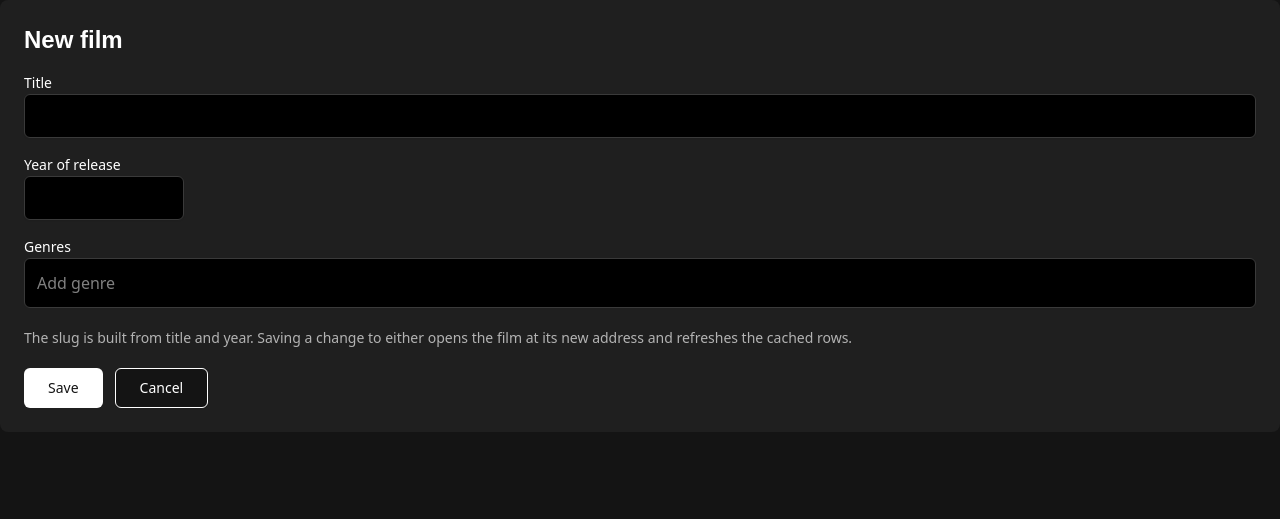
it: MovieForm › shows a clear message on a 403
The width and height of the screenshot is (1280, 519).
Type "New film" into the field labelled "Title". click: (640, 116)
box: top-left (24, 94), bottom-right (1256, 138)
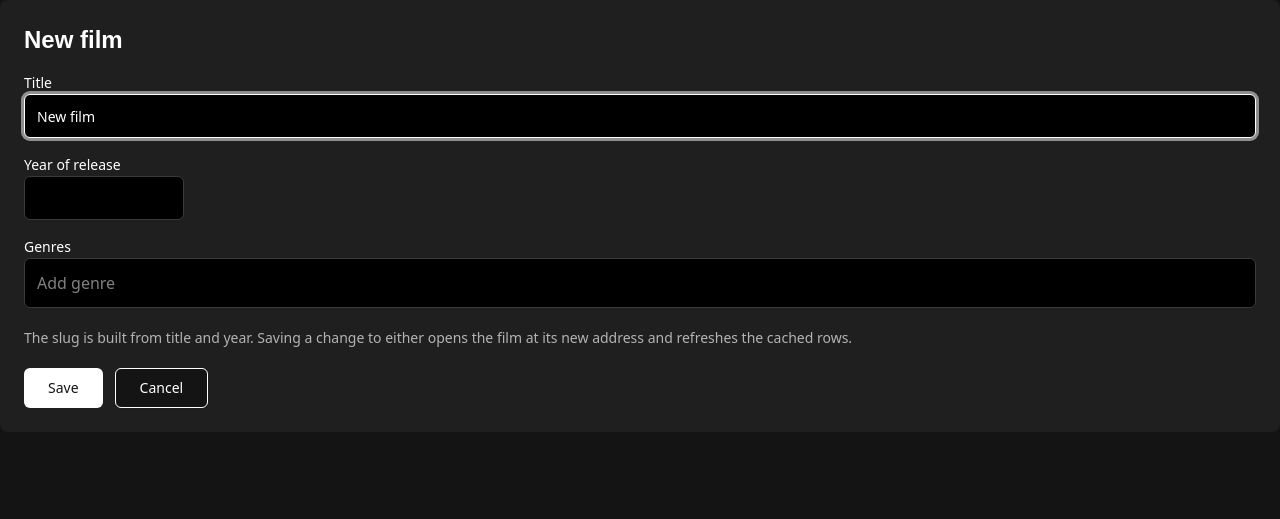
Type "2020" into the field labelled "Year of release". click: (104, 198)
box: top-left (24, 176), bottom-right (184, 220)
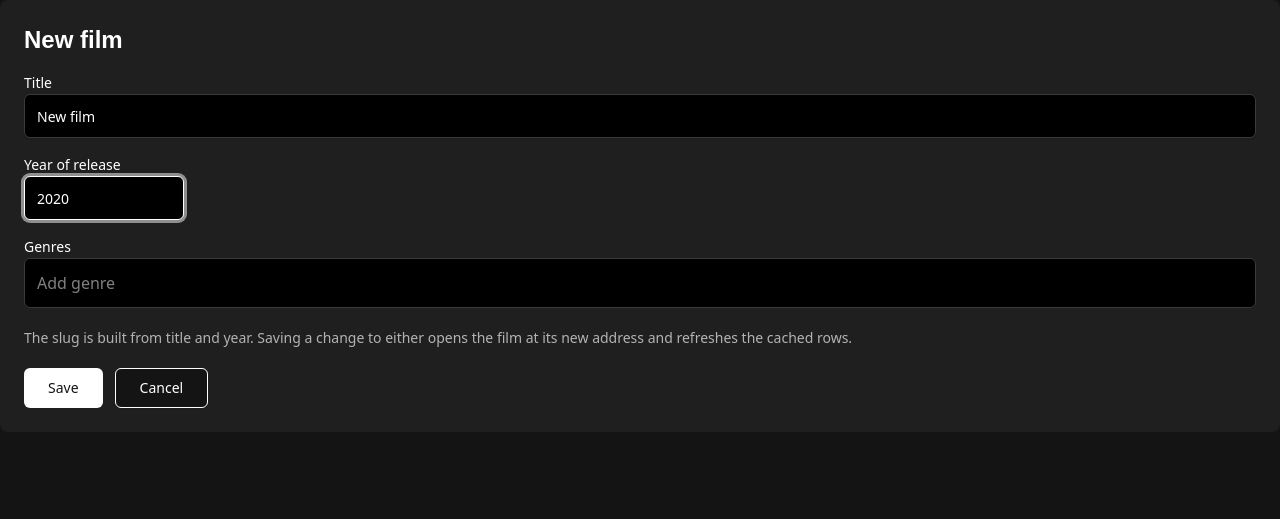
Click the button "Save". click: (63, 388)
box: top-left (24, 368), bottom-right (103, 408)
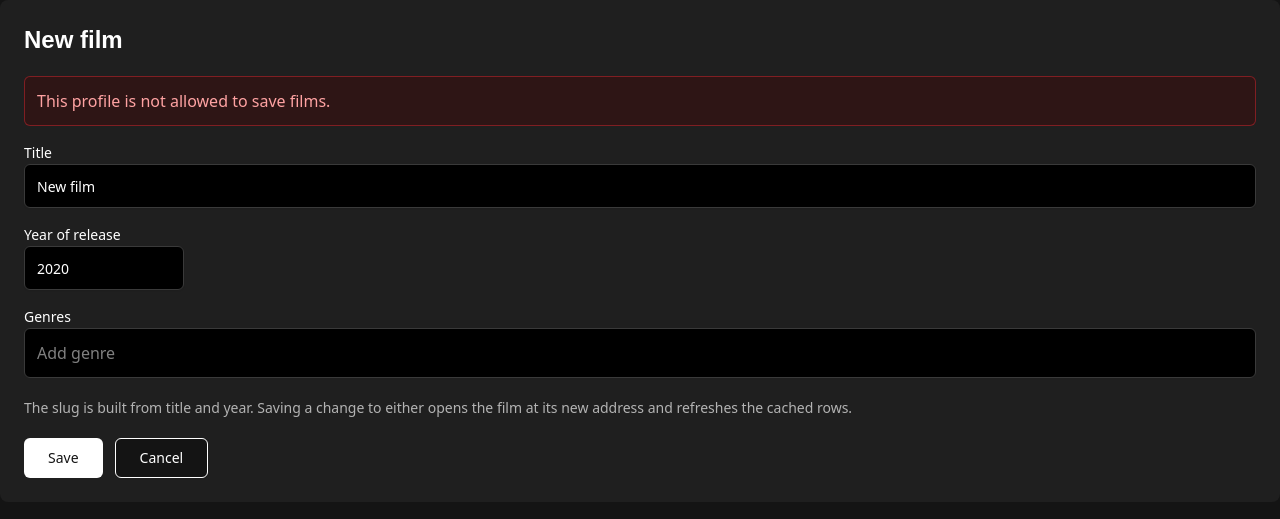
expect the message shows "not allowed": met, box top-left (37, 90), bottom-right (330, 112)
